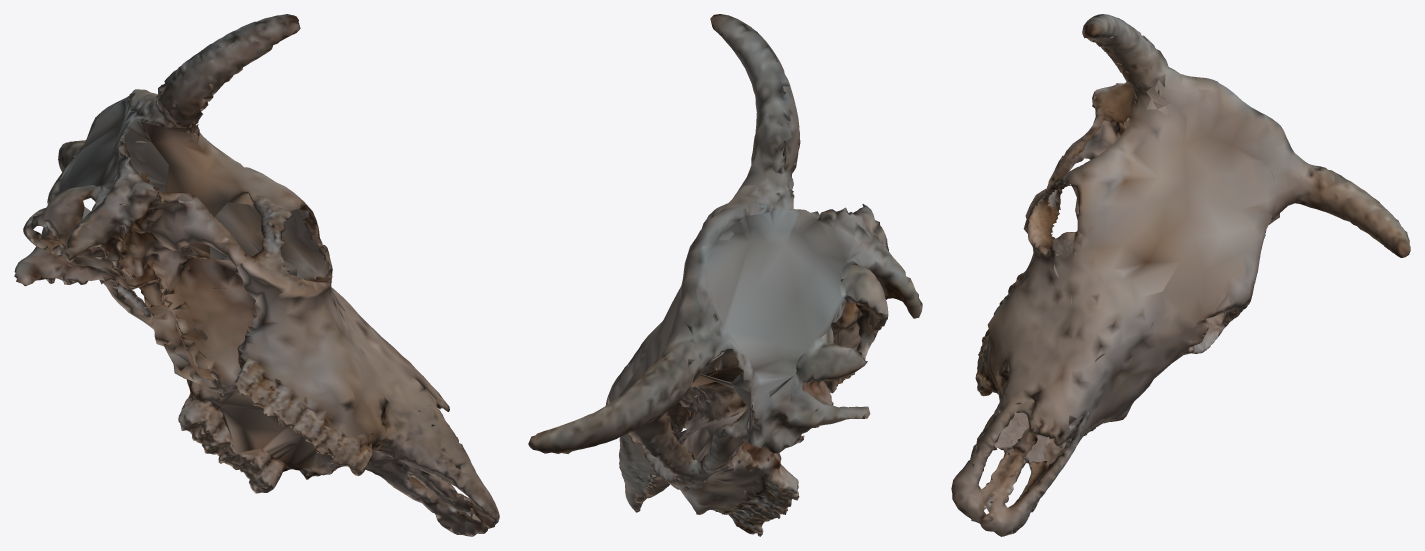
File: 4reduced_fixed_cow_skull.fbx
3 renders of one model, left to right at view 1: azimuth 30°, elevation 25°; view 2: azimuth 150°, elevation 25°; view 3: azimuth 270°, elevation 25°, orthographic. The views are drawn at different scales.
Parts seen in each view (by area): view 1: Bos_taurus_cranium_ANU_M198-000458187; view 2: Bos_taurus_cranium_ANU_M198-000458187; view 3: Bos_taurus_cranium_ANU_M198-000458187.
Part boxes in pixels (x1,y1,x2,y2): Bos_taurus_cranium_ANU_M198-000458187: (14,14,499,536); Bos_taurus_cranium_ANU_M198-000458187: (528,14,922,536); Bos_taurus_cranium_ANU_M198-000458187: (951,14,1410,536).
Bounding box in the file's own units: 4603 × 6648 × 6059.
